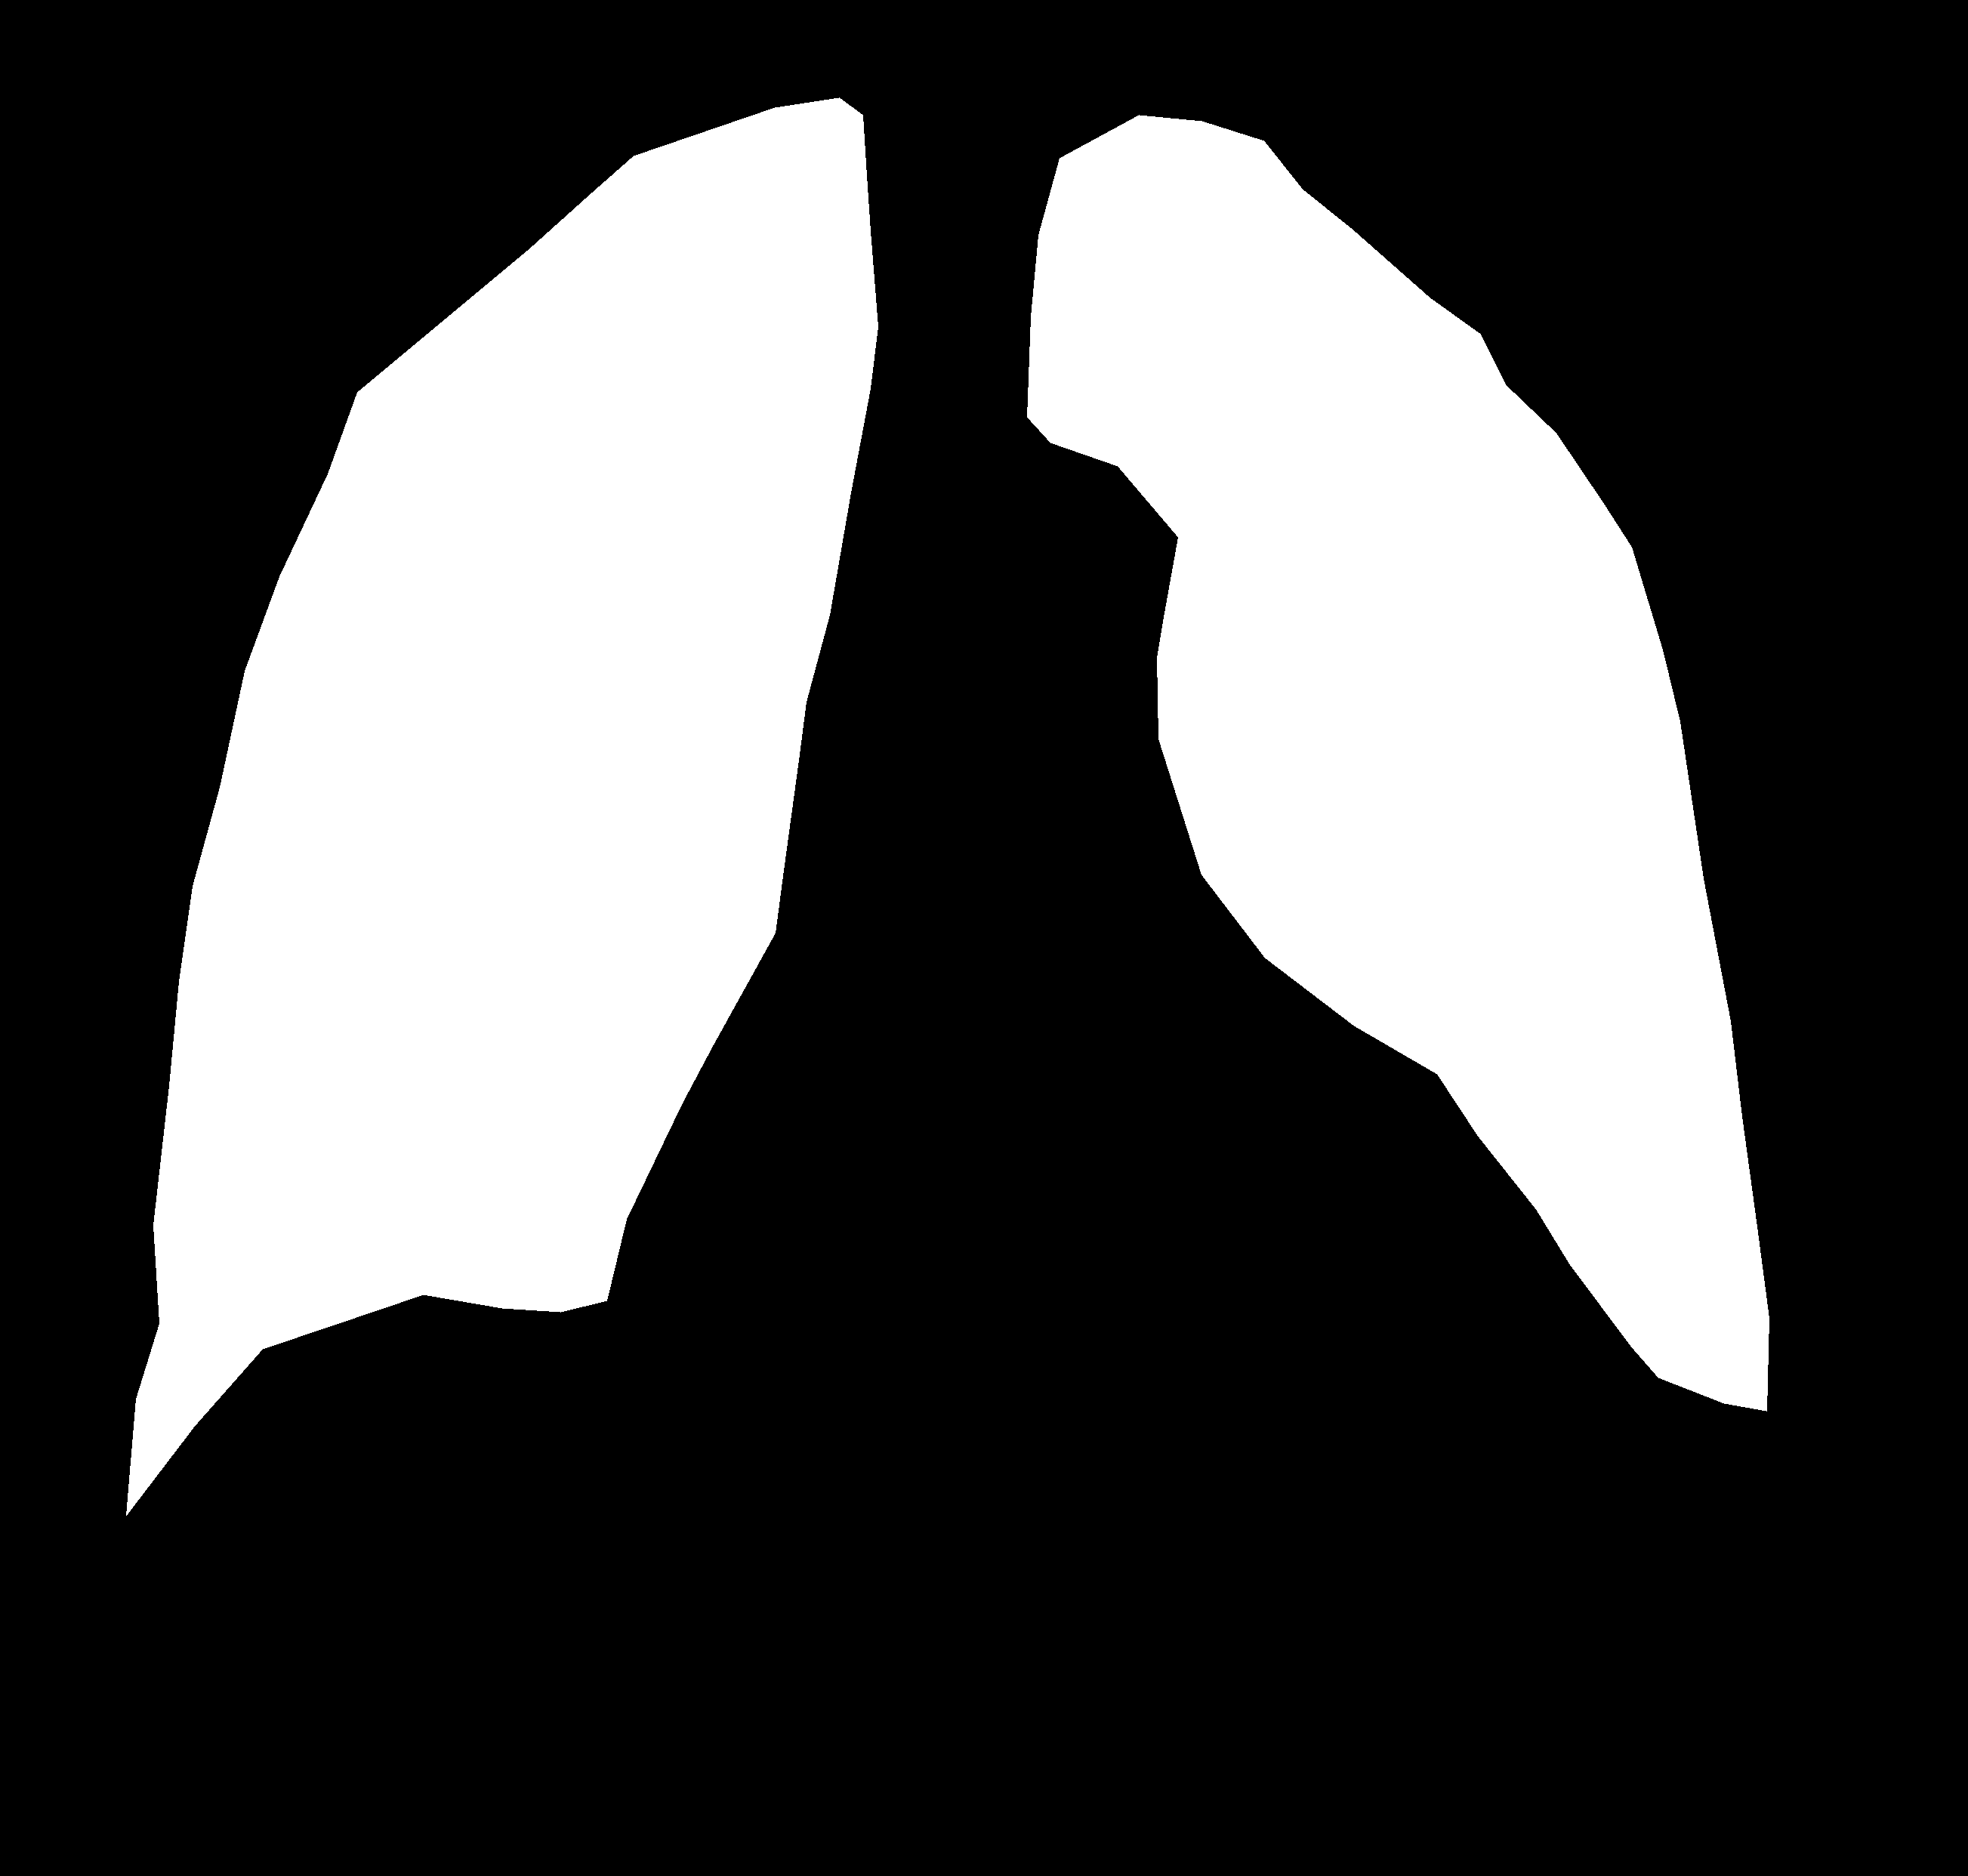heart: (613, 701, 1625, 1514)
left_lung: (127, 97, 877, 1514)
right_lung: (1026, 114, 1769, 1411)
